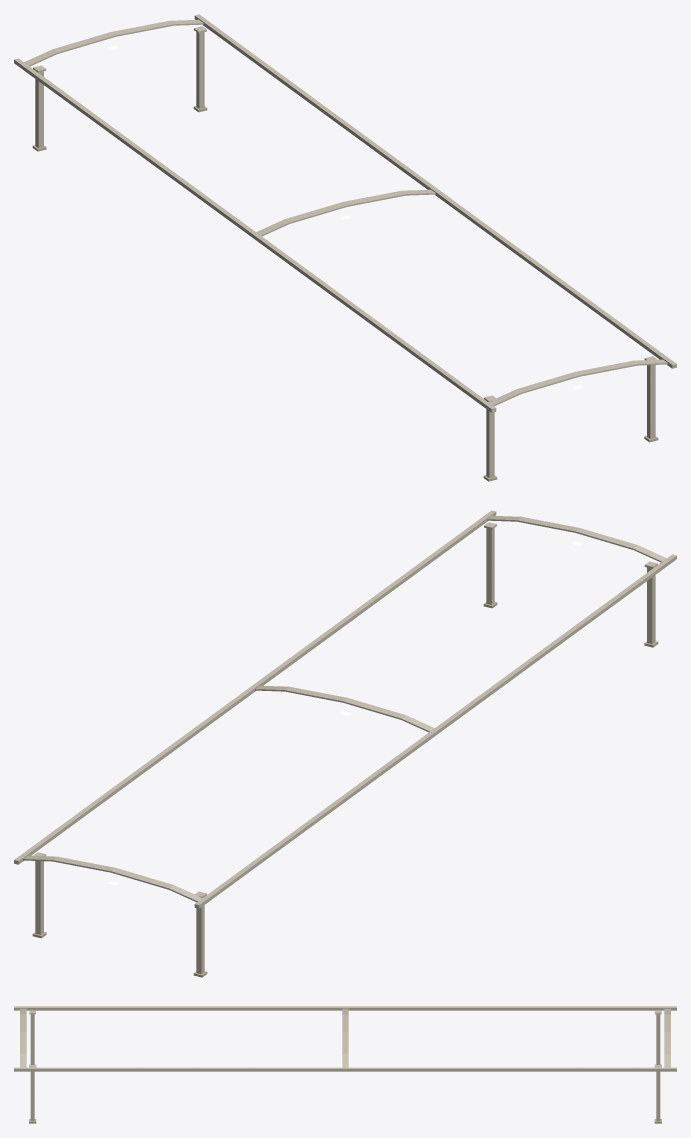
The model's file is COURT_D09_SA_00__shell.glb.
3 views of the same model, one above another, from view 1: azimuth 30°, elevation 25°; view 2: azimuth 150°, elevation 25°; view 3: azimuth 270°, elevation 25° (orthographic). The views are drawn at different scales.
Parts seen in each view (by area): view 1: COURT_D09_SA_00__shell__ivory_enamel; view 2: COURT_D09_SA_00__shell__ivory_enamel; view 3: COURT_D09_SA_00__shell__ivory_enamel.
Boxes of the visible parts, x1,y1,x2,y2 form: COURT_D09_SA_00__shell__ivory_enamel: (14,14,676,478); COURT_D09_SA_00__shell__ivory_enamel: (14,510,676,974); COURT_D09_SA_00__shell__ivory_enamel: (14,1006,676,1121).
Size of the model in its own units: 15.9 by 7.42 by 71.
3 materials, 2 textured.
